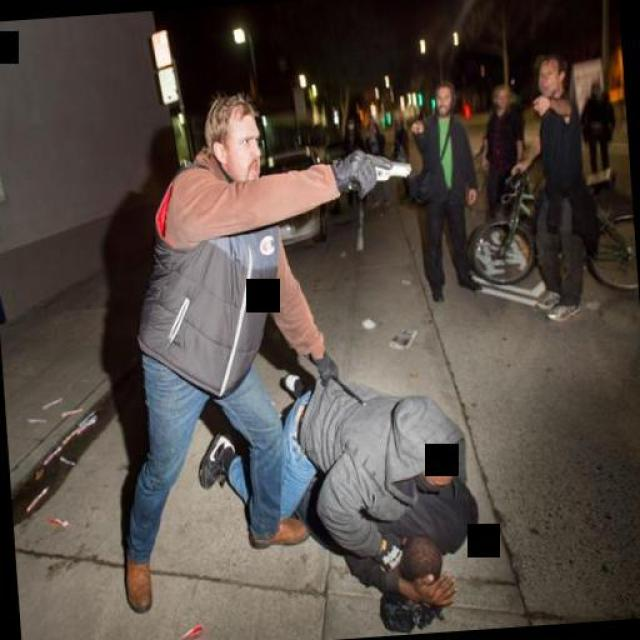gun: (338, 148, 418, 198)
